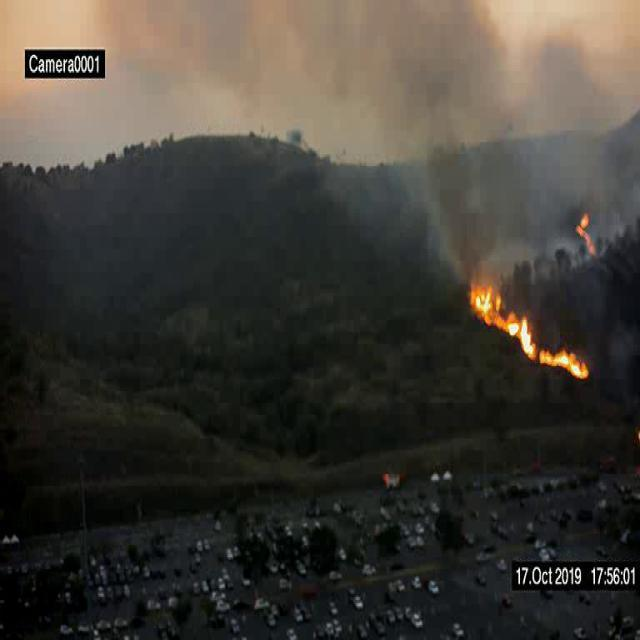Fire: (471, 289, 590, 381), (576, 212, 600, 252)
Smoke: (98, 0, 408, 160), (514, 0, 640, 279), (408, 0, 516, 286), (325, 161, 406, 270)
